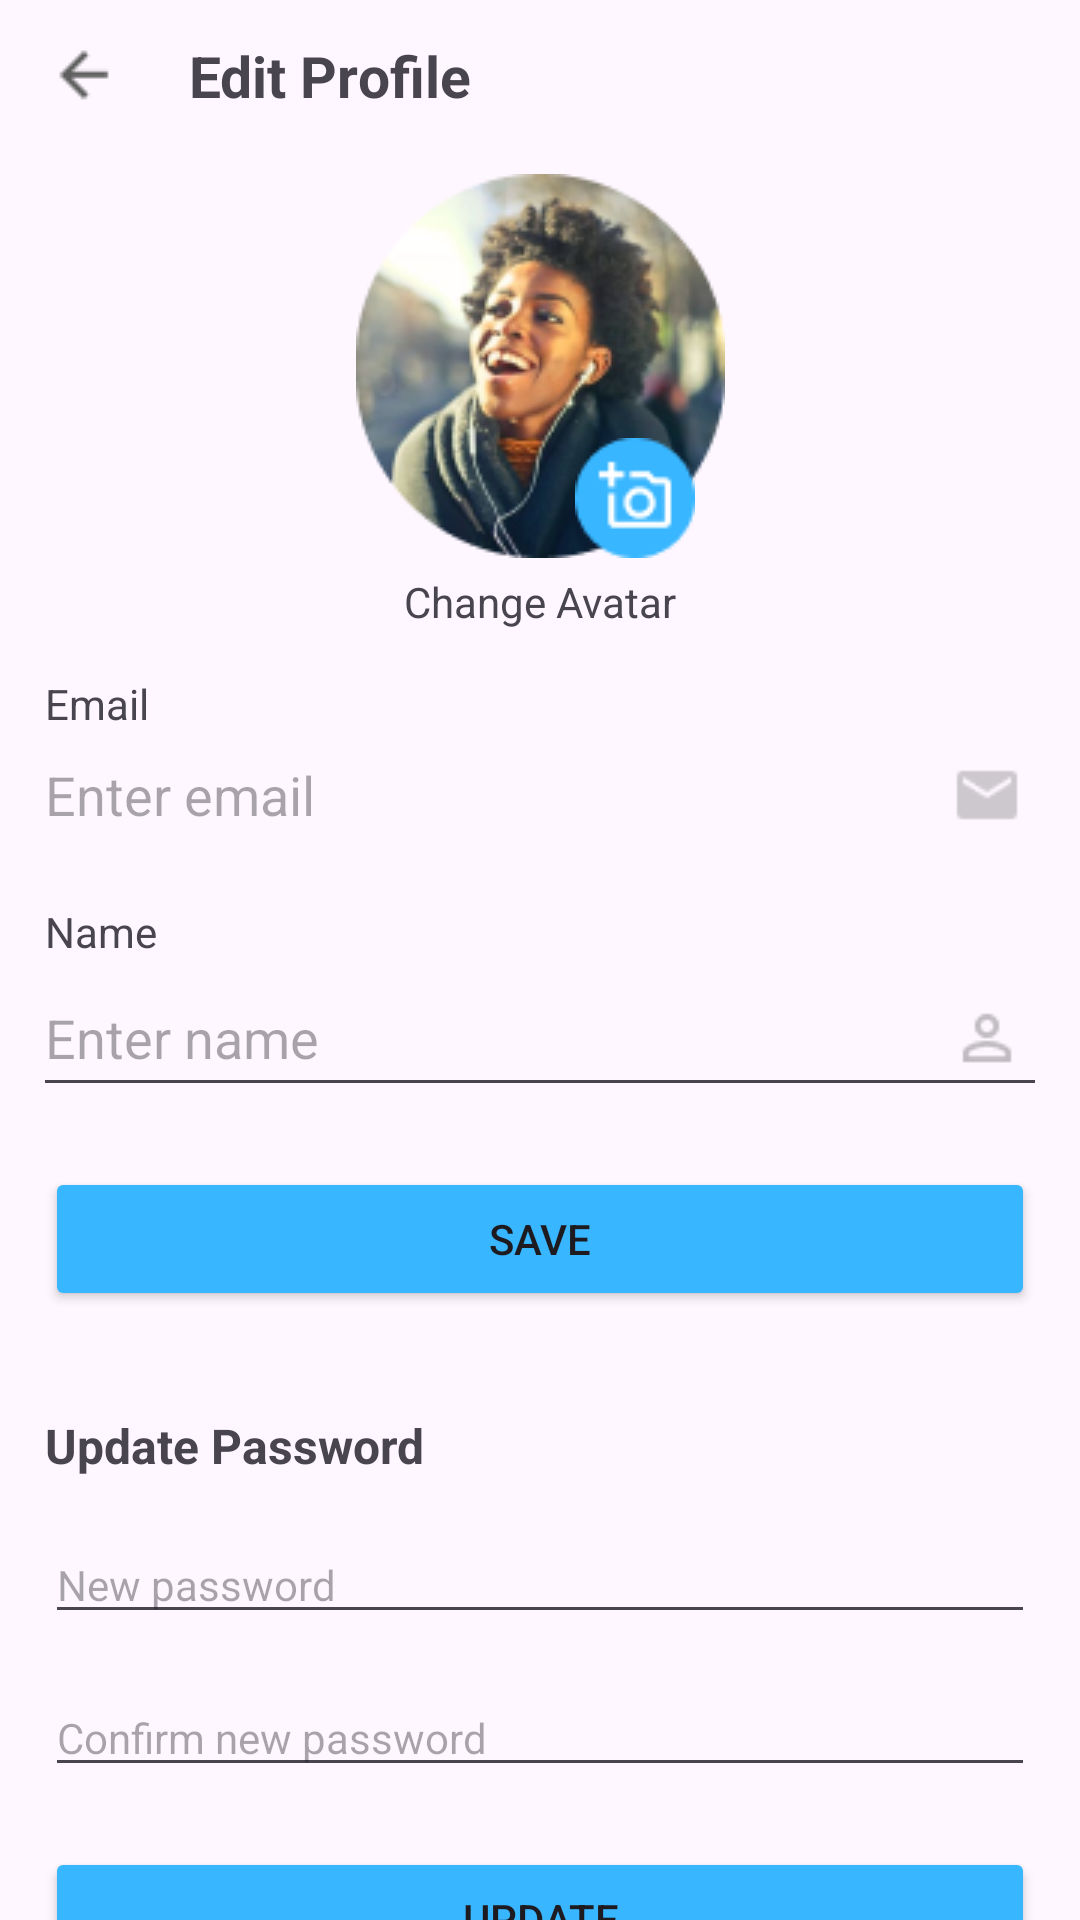

Where icons sit on this 1080 x 1920 app screen, as (x1, y1, x2, y2):
arrow left: (59, 50, 109, 100)
